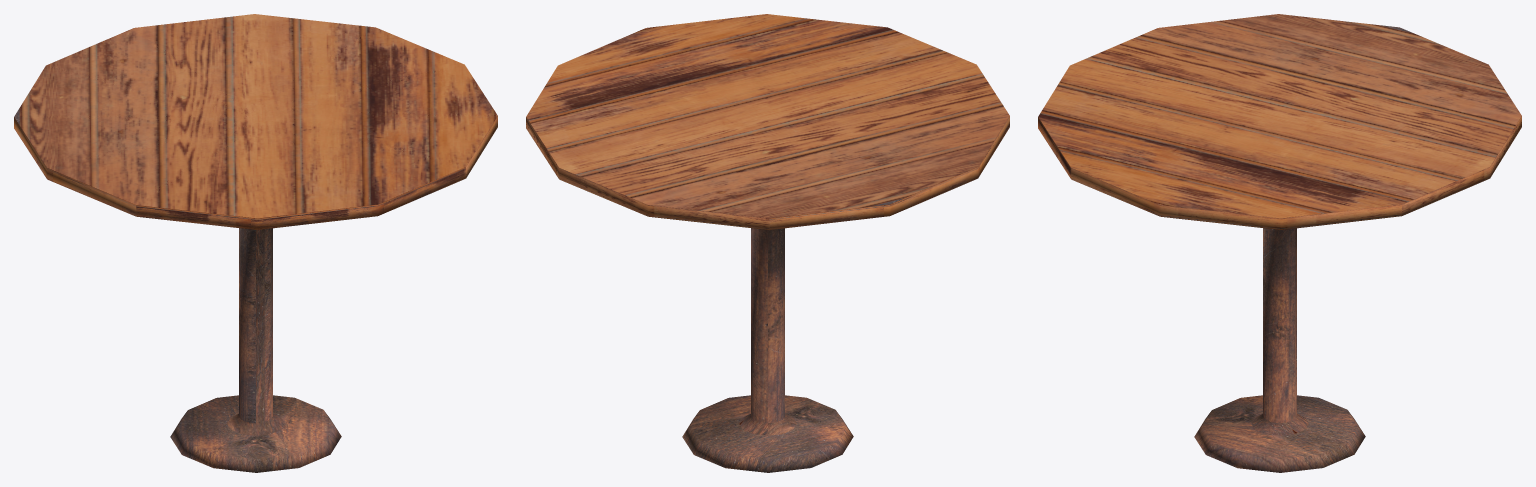
Rendered from CoffeTable.fbx.
The picture shows the model from 3 angles, left to right: view 1: azimuth 30°, elevation 25°; view 2: azimuth 150°, elevation 25°; view 3: azimuth 270°, elevation 25°; orthographic projection.
Visible parts, largest first — view 1: CoffeTable; view 2: CoffeTable; view 3: CoffeTable.
Boxes of the visible parts, <box> form: CoffeTable: <box>14,14,497,472</box>; CoffeTable: <box>526,14,1009,472</box>; CoffeTable: <box>1038,14,1521,472</box>.
Size of the model in its own units: 0.9667 by 0.9667 by 0.7068.
